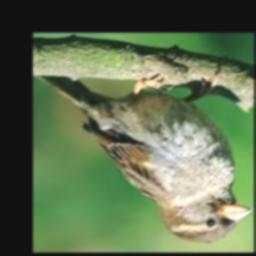Sparrow: (37, 70, 253, 243)
